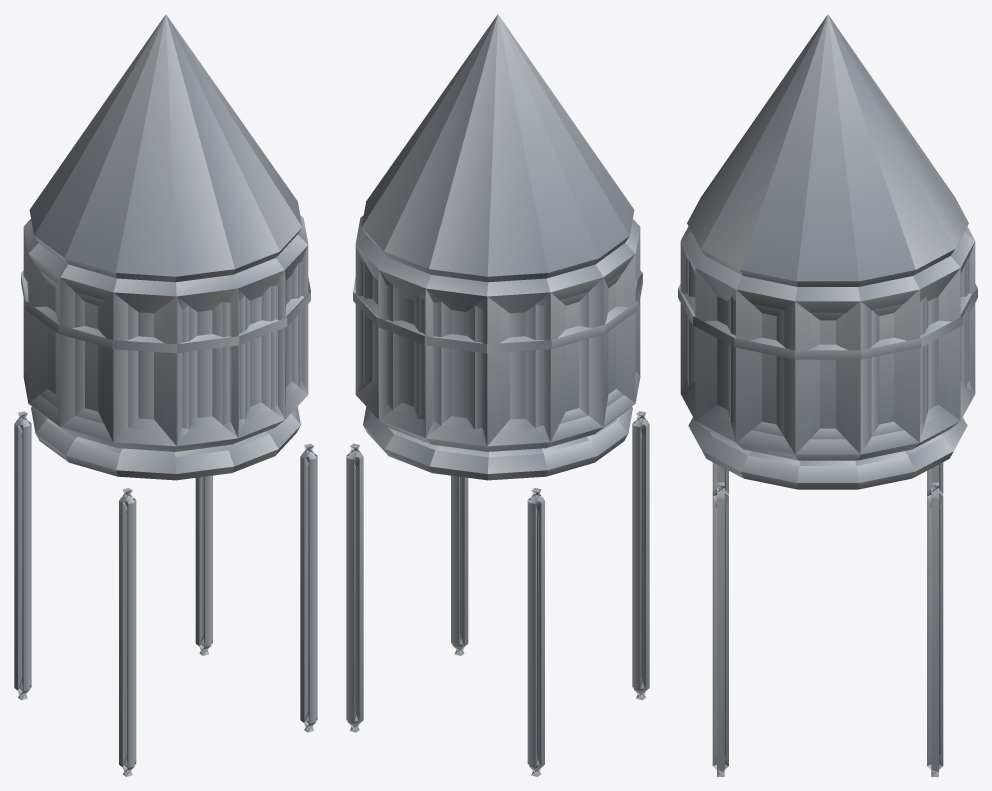
The model's file is dt_rocket_water_tower.fbx.
The picture shows the model from 3 angles, left to right: view 1: azimuth 30°, elevation 25°; view 2: azimuth 150°, elevation 25°; view 3: azimuth 270°, elevation 25°; orthographic projection. The views are drawn at different scales.
Visible parts, largest first — view 1: dt_rocket_water_tower; view 2: dt_rocket_water_tower; view 3: dt_rocket_water_tower.
Boxes of the visible parts, box(x1,y1,x2,y2) form: dt_rocket_water_tower: box(14, 14, 317, 776); dt_rocket_water_tower: box(346, 14, 649, 776); dt_rocket_water_tower: box(678, 14, 977, 776).
Bounding box in the file's own units: 1258 × 3400 × 1291.
